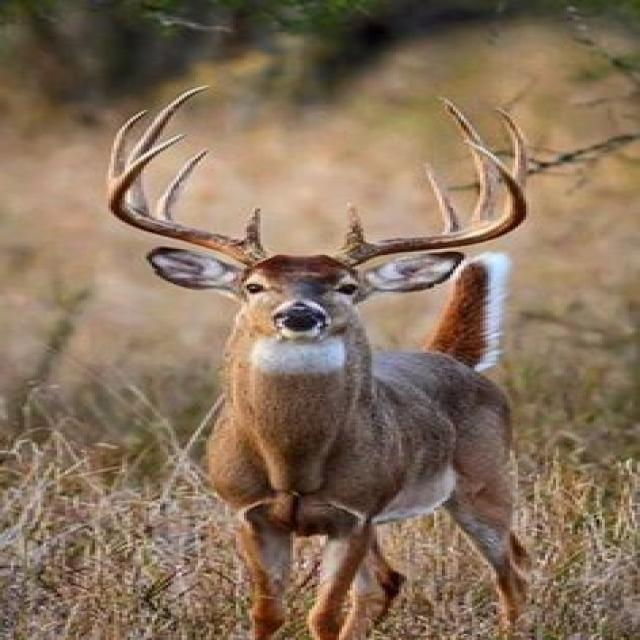Herbivorous: (108, 87, 532, 640)
